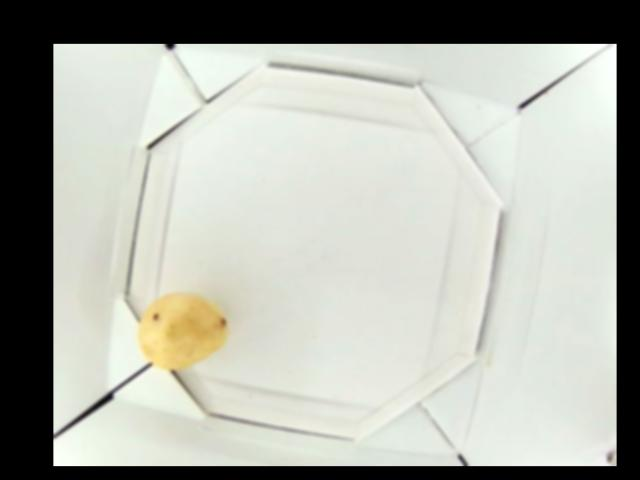Potato: (136, 290, 224, 368)
